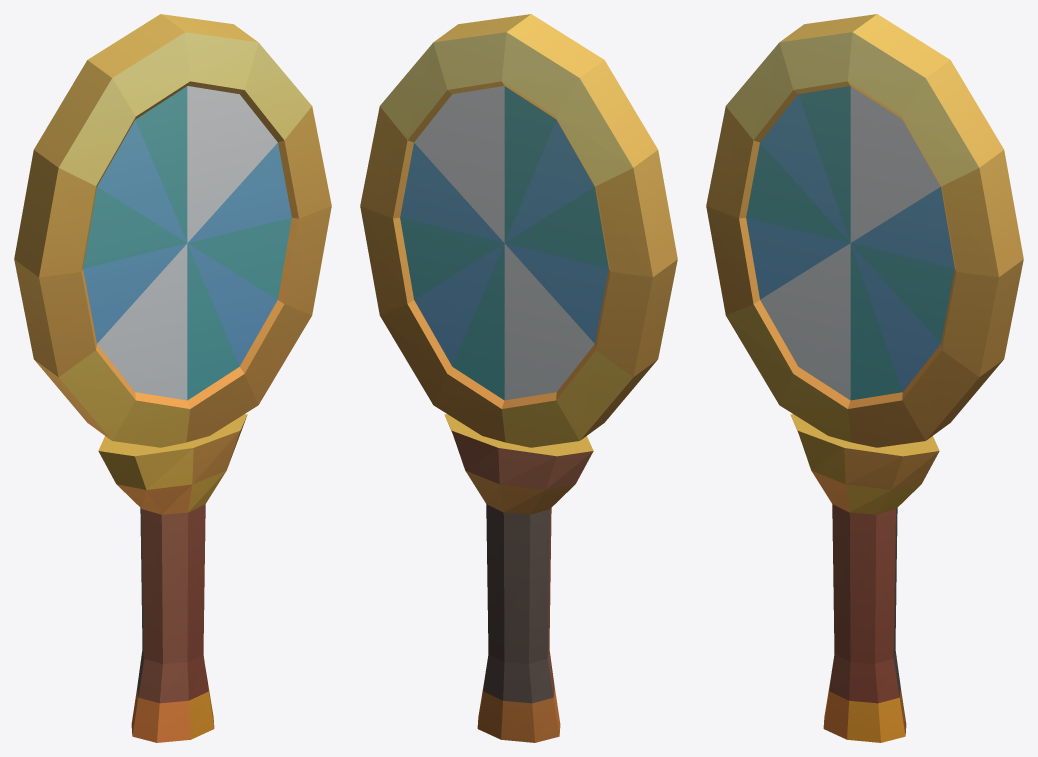
File: tool_mirror_hand.glb
3 views of the same model, side by side, from view 1: azimuth 30°, elevation 25°; view 2: azimuth 150°, elevation 25°; view 3: azimuth 330°, elevation 25° (orthographic).
Parts seen in each view (by area): view 1: model; view 2: model; view 3: model.
Part boxes in pixels (<box>): model: <box>14,14,331,742</box>; model: <box>360,14,677,742</box>; model: <box>706,14,1023,742</box>.
Size of the model in its own units: 0.49 by 1.12 by 0.12.
Materials: 1 (1 with a texture image).
